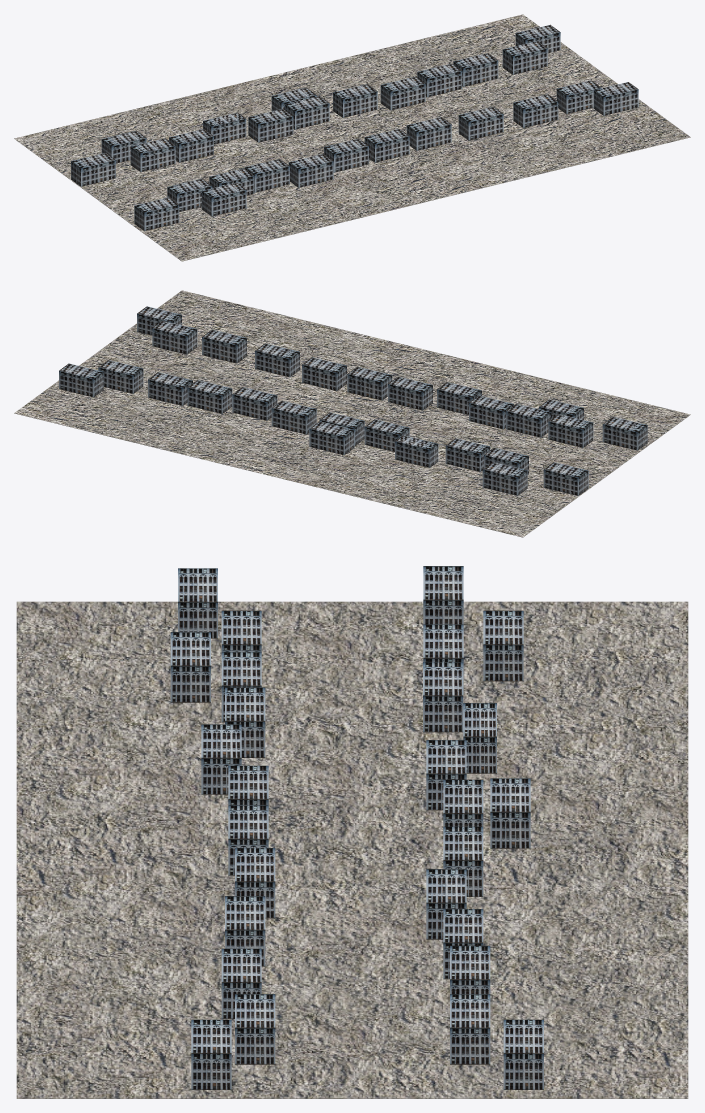
The model's file is cityblock.dae.
3 views of the same model, one above another, from view 1: azimuth 30°, elevation 25°; view 2: azimuth 150°, elevation 25°; view 3: azimuth 270°, elevation 25° (orthographic). The views are drawn at different scales.
Parts seen in each view (by area): view 1: Cube_020, Cube_027, Cube_019, Cube_003, Cube_000, Cube_025, Cube_022, Cube_014, Cube_012, Cube_011, Cube_002, Cube_021 (+16 smaller); view 2: Cube_020, Cube_026, Cube_027, Cube_021, Cube_013, Cube_010, Cube_004, Cube_001, Cube_016, Cube_012, Cube_011, Cube_008 (+16 smaller); view 3: Cube_020, Cube_010, Cube_025, Cube_022, Cube_014, Cube_013, Cube_001, Cube_024, Cube_018, Cube_027, Cube_007, Cube_021 (+16 smaller).
Boxes of the visible parts, x1=… form: Cube_020: x1=14, y1=14, x2=690, y2=261; Cube_027: x1=134, y1=197, x2=179, y2=231; Cube_019: x1=130, y1=138, x2=175, y2=172; Cube_003: x1=380, y1=76, x2=425, y2=110; Cube_000: x1=248, y1=109, x2=293, y2=142; Cube_025: x1=593, y1=82, x2=638, y2=115; Cube_022: x1=502, y1=41, x2=547, y2=74; Cube_014: x1=201, y1=182, x2=246, y2=216; Cube_012: x1=513, y1=94, x2=558, y2=127; Cube_011: x1=458, y1=106, x2=503, y2=140; Cube_002: x1=333, y1=84, x2=377, y2=117; Cube_021: x1=71, y1=153, x2=115, y2=186; Cube_020: x1=14, y1=290, x2=690, y2=537; Cube_026: x1=548, y1=414, x2=593, y2=447; Cube_027: x1=602, y1=416, x2=647, y2=450; Cube_021: x1=543, y1=462, x2=588, y2=495; Cube_013: x1=152, y1=320, x2=197, y2=354; Cube_010: x1=482, y1=462, x2=527, y2=495; Cube_004: x1=187, y1=380, x2=232, y2=413; Cube_001: x1=309, y1=421, x2=354, y2=455; Cube_016: x1=302, y1=357, x2=346, y2=391; Cube_012: x1=202, y1=329, x2=246, y2=363; Cube_011: x1=255, y1=343, x2=299, y2=377; Cube_008: x1=388, y1=376, x2=432, y2=410; Cube_020: x1=16, y1=601, x2=688, y2=1098; Cube_010: x1=483, y1=610, x2=523, y2=681; Cube_025: x1=191, y1=1019, x2=231, y2=1089; Cube_022: x1=450, y1=994, x2=490, y2=1064; Cube_014: x1=170, y1=632, x2=210, y2=702; Cube_013: x1=235, y1=994, x2=275, y2=1064; Cube_001: x1=490, y1=778, x2=530, y2=848; Cube_024: x1=503, y1=1019, x2=543, y2=1089; Cube_018: x1=423, y1=662, x2=463, y2=732; Cube_027: x1=178, y1=568, x2=217, y2=638; Cube_007: x1=201, y1=724, x2=241, y2=794; Cube_021: x1=423, y1=566, x2=463, y2=624.
Bounding box in the file's own units: 350 × 200 × 12.06.
2 materials, 2 textured.
